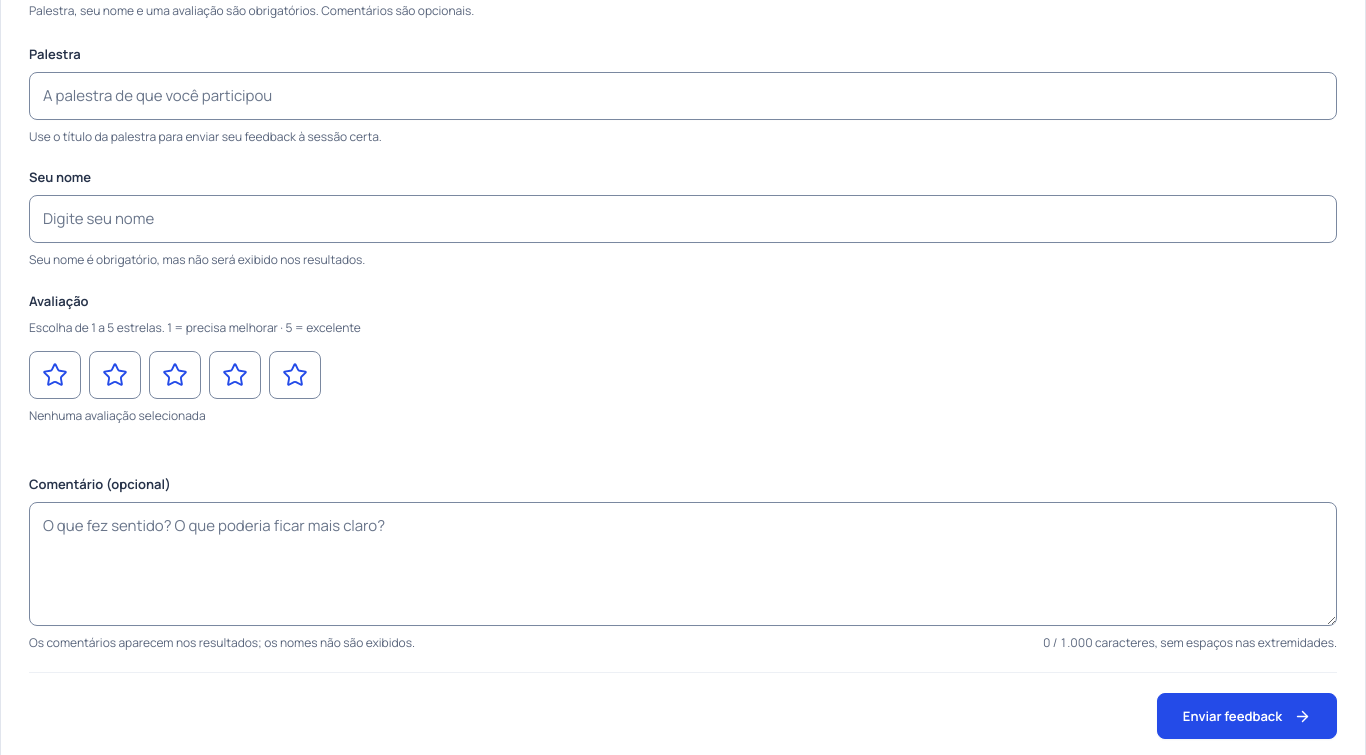
Scenario: translates client validation while preserving required fields and error focus
(page scrolled)
What coordinates should you click on to do the following:
click the button "Enviar feedback"
I would click on:
 (1247, 716)
Its box is [1157, 693, 1337, 739].
(page scrolled)
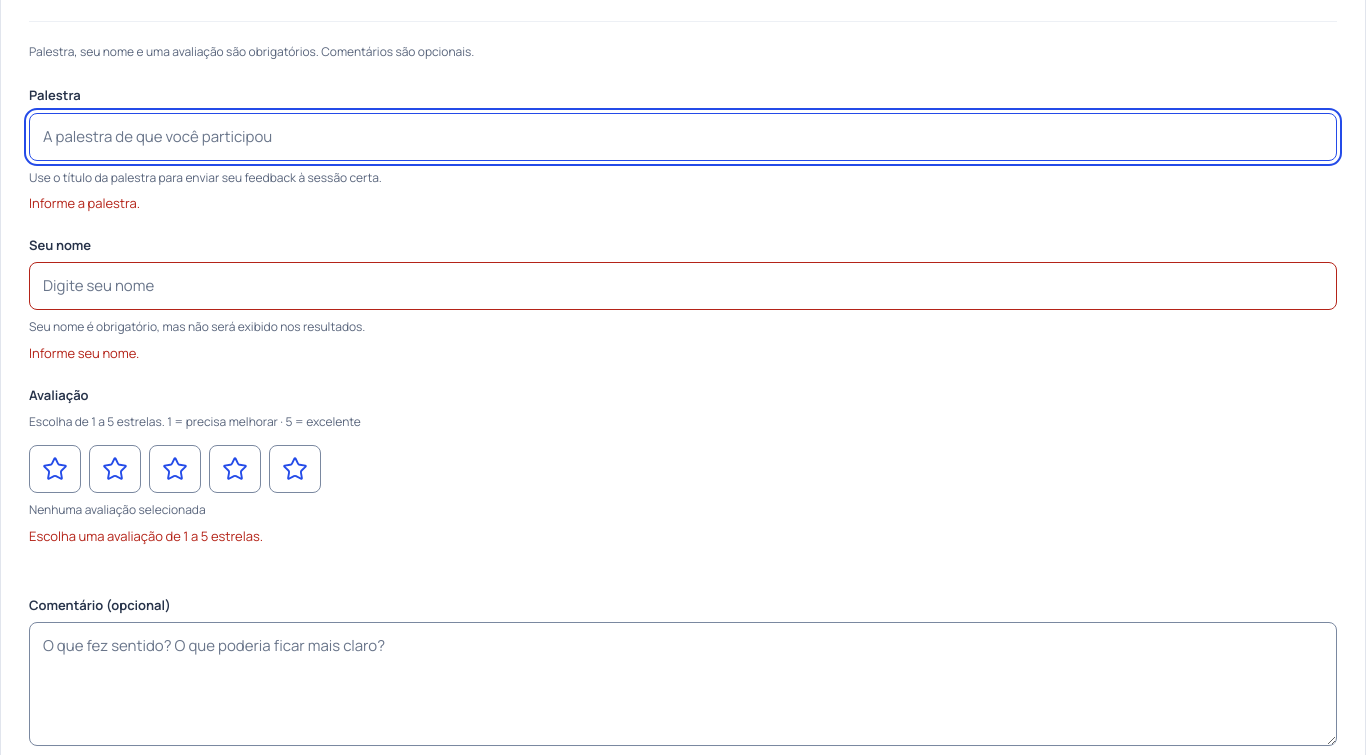
Result: the text "Informe a palestra." is shown at [29, 194, 140, 212]
Result: the text "Informe seu nome." is shown at [29, 344, 139, 362]
Result: the text "Escolha uma avaliação de 1 a 5 estrelas." is shown at [29, 527, 263, 545]
